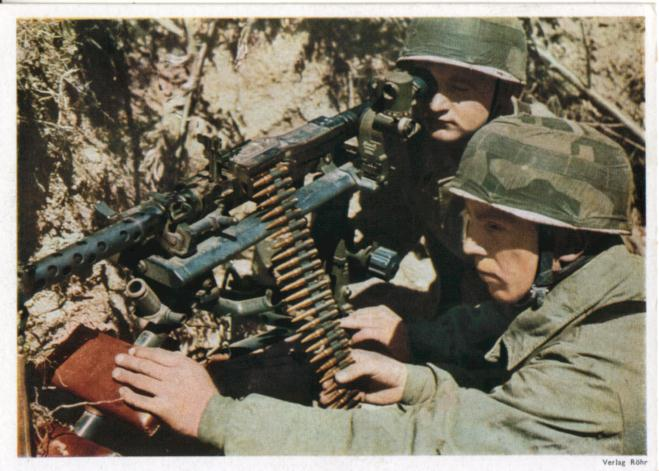rifle: (26, 100, 365, 347)
